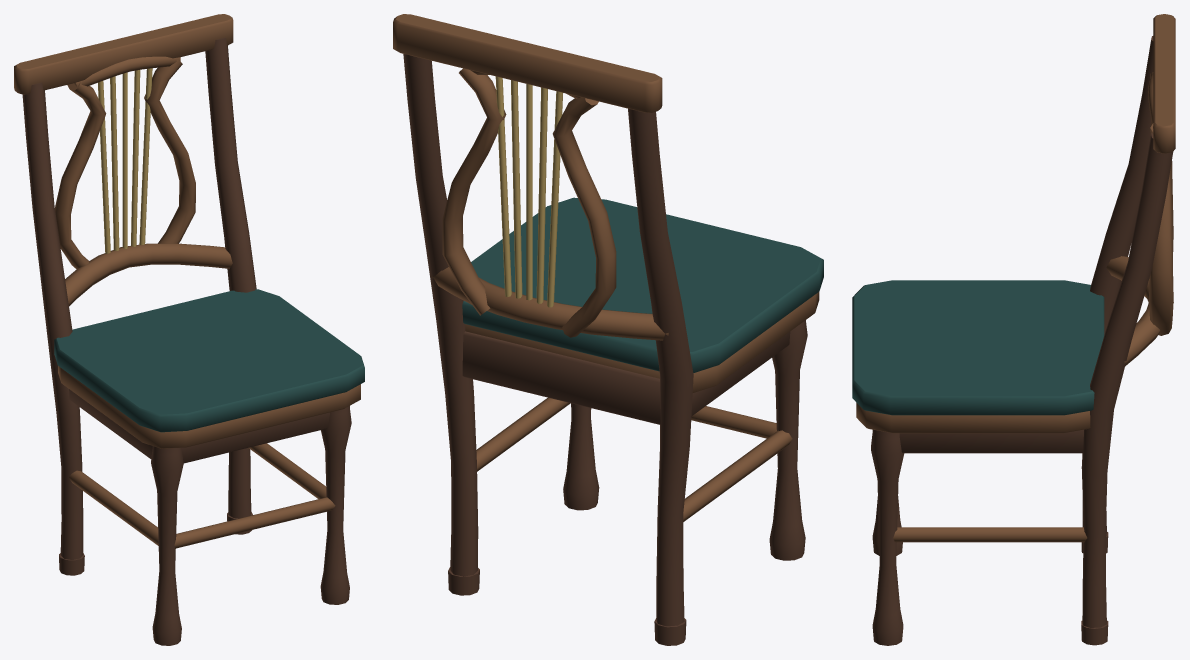
File: rpg-mansion-lyre-side-01.glb
3 renders of one model, left to right at view 1: azimuth 30°, elevation 25°; view 2: azimuth 150°, elevation 25°; view 3: azimuth 270°, elevation 25°, orthographic. The views are drawn at different scales.
Visible parts, largest first — view 1: rpg-mansion-lyre-side-01; view 2: rpg-mansion-lyre-side-01; view 3: rpg-mansion-lyre-side-01.
Boxes of the visible parts, bbox=[...] form: rpg-mansion-lyre-side-01: bbox=[14, 14, 364, 645]; rpg-mansion-lyre-side-01: bbox=[393, 14, 823, 645]; rpg-mansion-lyre-side-01: bbox=[852, 14, 1175, 645].
Size of the model in its own units: 0.451 by 0.94 by 0.524.
